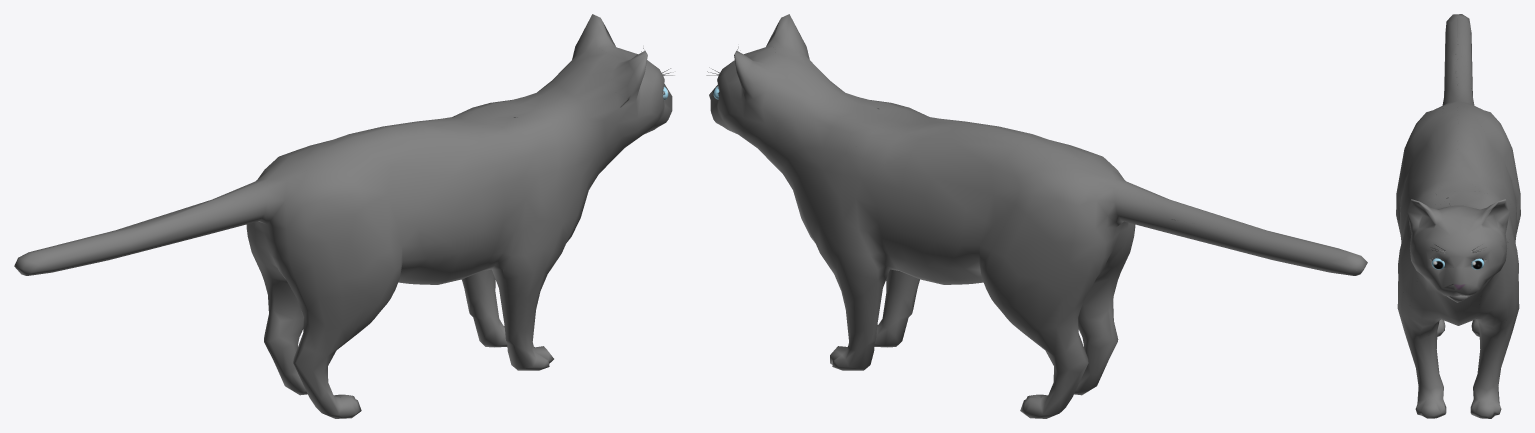
File: greypolycat.glb
3 renders of one model, left to right at view 1: azimuth 30°, elevation 25°; view 2: azimuth 150°, elevation 25°; view 3: azimuth 270°, elevation 25°, orthographic. The views are drawn at different scales.
Parts seen in each view (by area): view 1: cat; view 2: cat; view 3: cat.
Part boxes in pixels (x1,y1,x2,y2): cat: (14,14,674,418); cat: (706,14,1367,418); cat: (1396,14,1520,418).
Bounding box in the file's own units: 23.49 × 10.21 × 4.45.
1 material, 1 textured.
